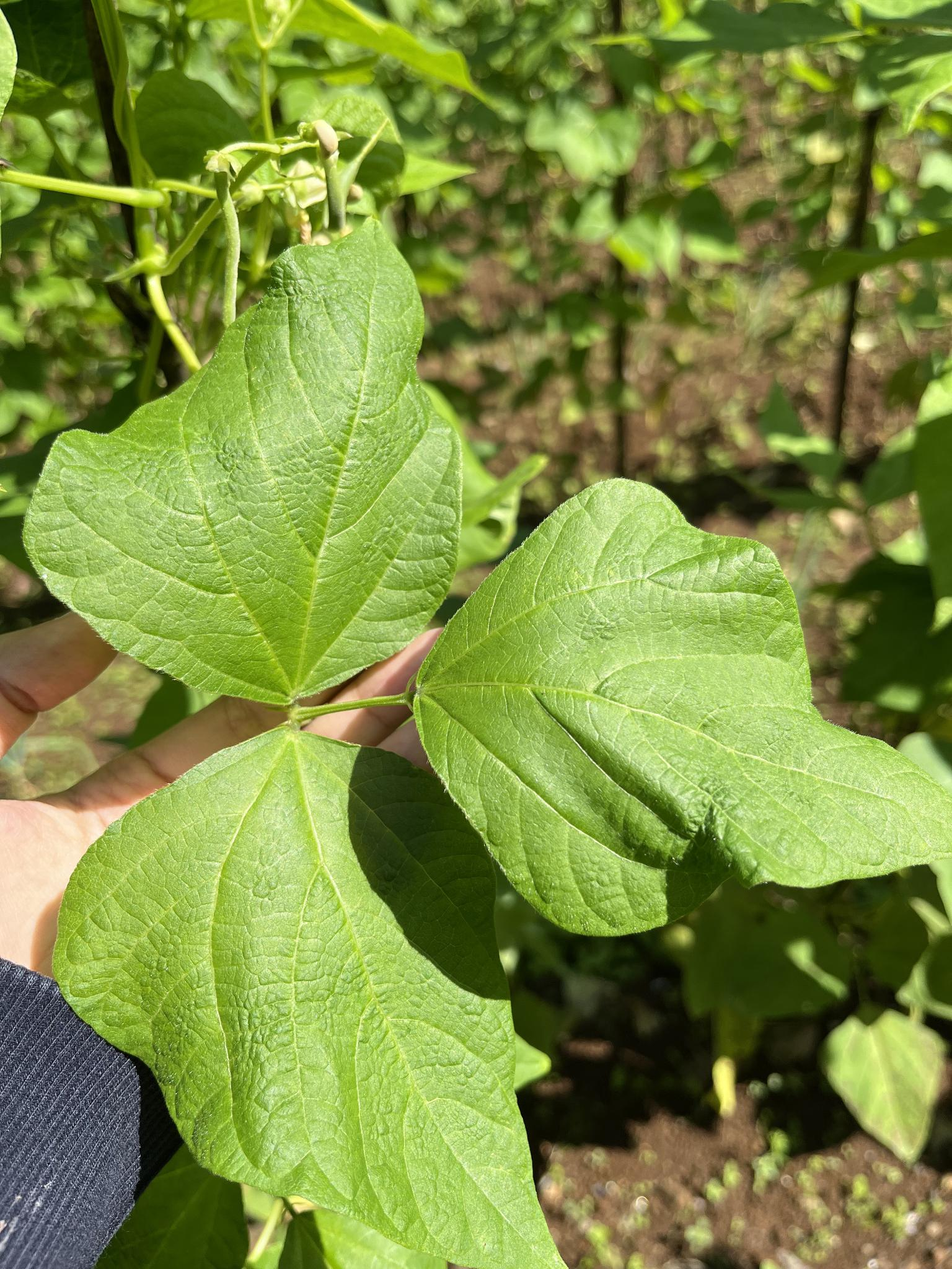sehat: (31, 747, 580, 1269)
